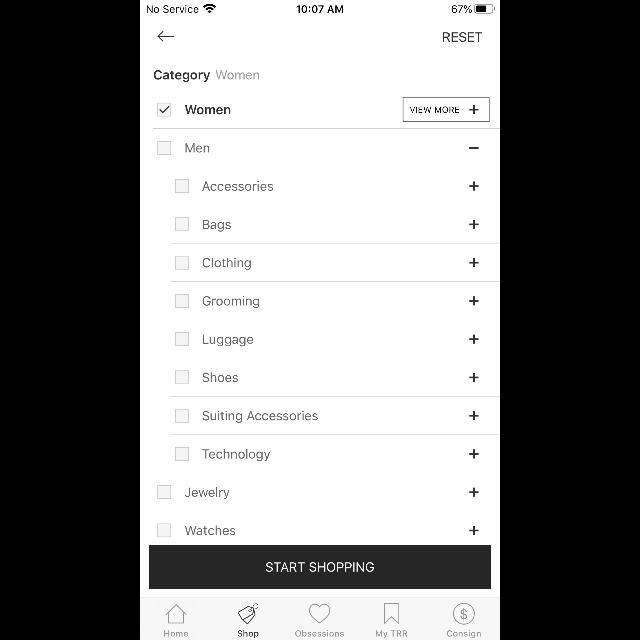checkbox: (175, 408, 189, 422), (175, 256, 189, 270), (157, 524, 170, 538), (157, 102, 170, 116), (157, 486, 171, 498), (176, 447, 188, 461), (176, 332, 188, 346), (176, 294, 188, 308), (175, 218, 189, 230), (175, 180, 189, 192), (158, 142, 172, 154), (176, 371, 188, 384)
icon: (166, 604, 187, 624), (454, 604, 474, 624), (310, 604, 330, 624), (238, 604, 258, 624), (384, 602, 398, 624), (158, 32, 174, 42), (469, 372, 478, 382), (469, 334, 478, 344), (469, 296, 478, 306), (469, 258, 478, 268), (469, 220, 478, 230), (469, 488, 478, 497), (469, 449, 478, 458), (469, 412, 478, 421), (469, 526, 478, 534), (469, 182, 478, 190), (469, 106, 478, 114), (469, 147, 478, 149)
text: (202, 411, 318, 423), (202, 449, 270, 461), (202, 181, 274, 191), (203, 296, 259, 308), (154, 70, 210, 82), (203, 335, 253, 347), (203, 258, 251, 270), (186, 487, 230, 499), (186, 525, 236, 535), (217, 70, 260, 80), (442, 32, 482, 42), (186, 106, 230, 114), (204, 372, 238, 382), (203, 220, 231, 232), (409, 107, 458, 113), (296, 630, 344, 636), (447, 630, 481, 638), (376, 630, 406, 638), (187, 144, 210, 152), (238, 630, 258, 638), (164, 630, 188, 636)
textbutton: (149, 546, 491, 588), (403, 98, 489, 122)
uppertaskbar: (140, 0, 500, 14)
